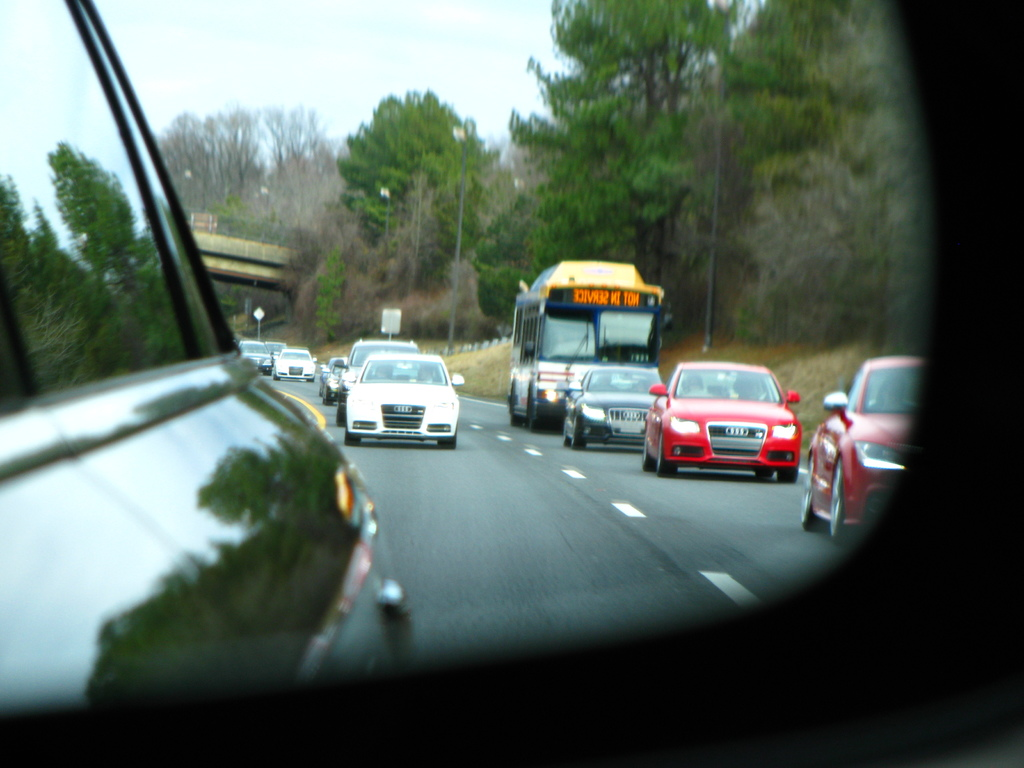Bus: (501, 263, 668, 438)
